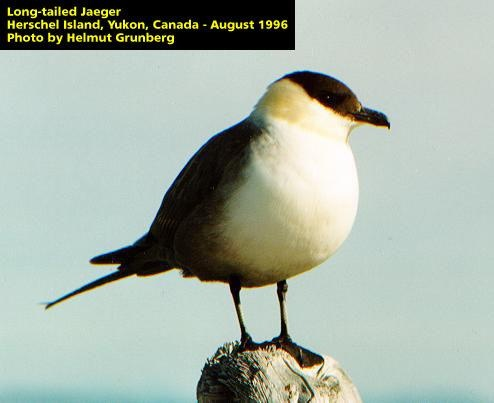bird: (42, 70, 398, 362)
